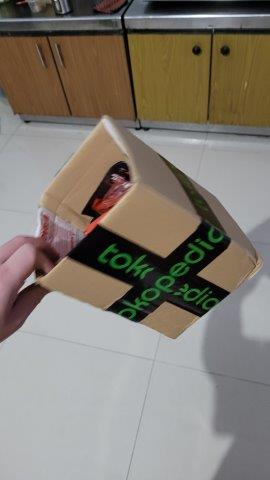kardus: (33, 114, 260, 340)
